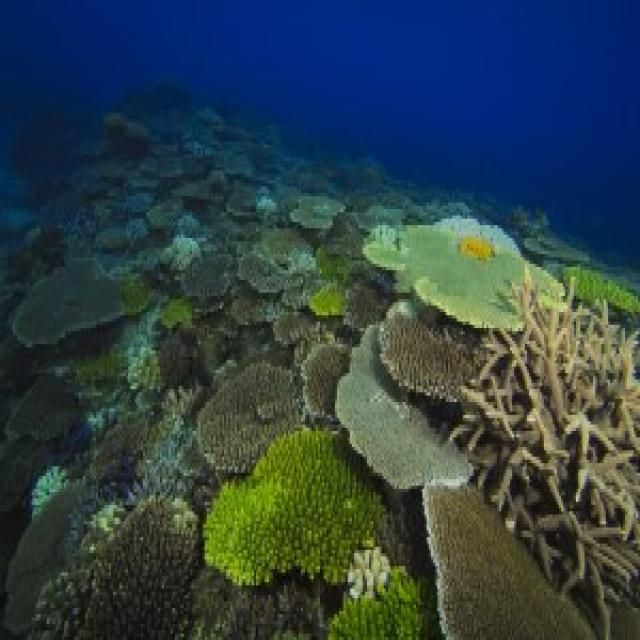Healthy: (451, 274, 639, 618), (7, 416, 157, 628), (206, 429, 385, 586), (426, 487, 594, 638), (364, 220, 562, 329), (336, 326, 470, 487), (82, 499, 199, 638), (14, 258, 148, 345), (199, 361, 300, 474), (191, 567, 327, 638), (381, 316, 479, 400), (330, 570, 426, 638), (140, 397, 195, 493), (304, 345, 349, 413)
